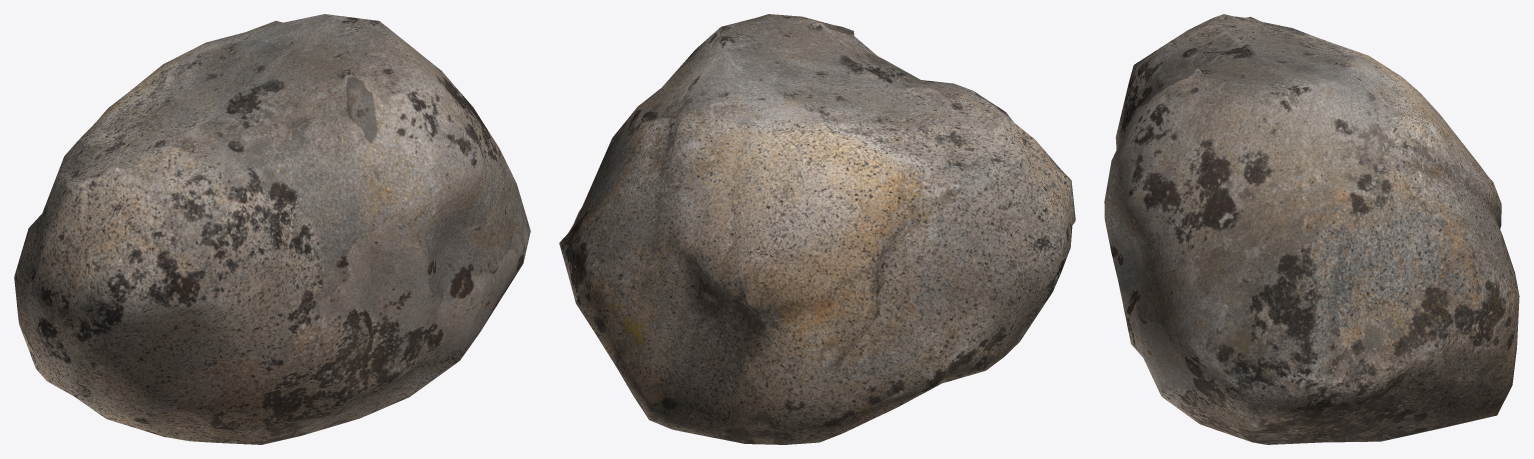
File: forest_boulder_wgosajs_low.glb
3 views of the same model, side by side, from view 1: azimuth 30°, elevation 25°; view 2: azimuth 150°, elevation 25°; view 3: azimuth 270°, elevation 25° (orthographic). The views are drawn at different scales.
Visible parts, largest first — view 1: wgosajs_LOD0_TIER3_000; view 2: wgosajs_LOD0_TIER3_000; view 3: wgosajs_LOD0_TIER3_000.
Part boxes in pixels (box(x1,y1,x2,y2)): wgosajs_LOD0_TIER3_000: box(14, 14, 530, 444); wgosajs_LOD0_TIER3_000: box(559, 14, 1075, 444); wgosajs_LOD0_TIER3_000: box(1104, 14, 1519, 444).
Bounding box in the file's own units: 1.24 × 0.878 × 0.9118.
Materials: 1 (1 with a texture image).
